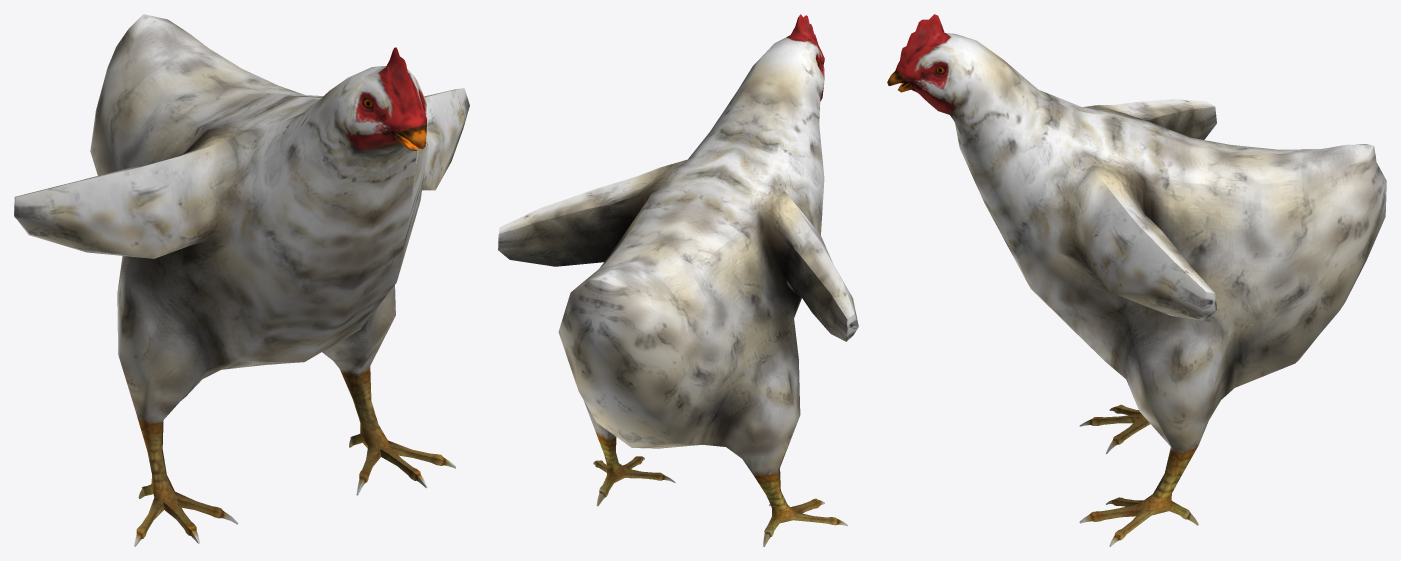
Rendered from Chicken_BN.fbx.
3 renders of one model, left to right at view 1: azimuth 30°, elevation 25°; view 2: azimuth 150°, elevation 25°; view 3: azimuth 270°, elevation 25°, orthographic. The views are drawn at different scales.
Visible parts, largest first — view 1: chicken_animv2:chicken; view 2: chicken_animv2:chicken; view 3: chicken_animv2:chicken.
Part boxes in pixels (left/top/right/bottom): chicken_animv2:chicken: left=14, top=14, right=469, bottom=546; chicken_animv2:chicken: left=498, top=14, right=858, bottom=546; chicken_animv2:chicken: left=887, top=14, right=1386, bottom=546.
Size of the model in its own units: 1.77 by 1.99 by 1.93.
